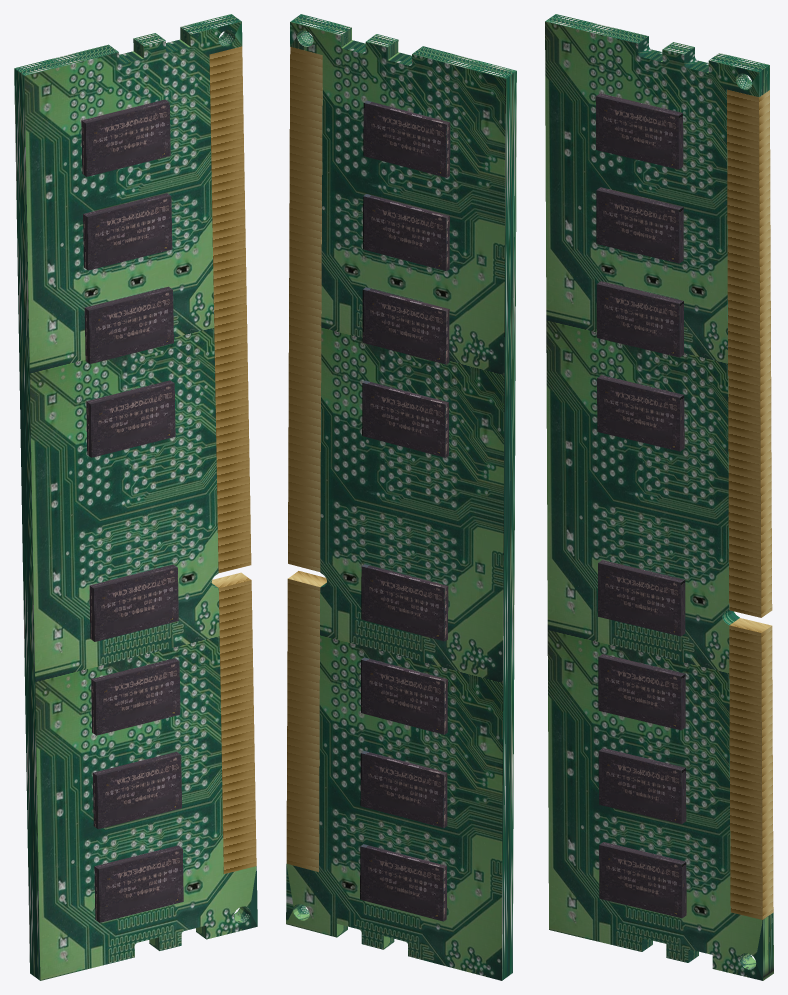
File: ram.glb
3 views of the same model, side by side, from view 1: azimuth 30°, elevation 25°; view 2: azimuth 150°, elevation 25°; view 3: azimuth 330°, elevation 25° (orthographic).
Parts seen in each view (by area): view 1: Cube, Cube.002, Cube.003, Cube.001; view 2: Cube, Cube.002, Cube.005, Cube.004; view 3: Cube, Cube.002, Cube.003, Cube.001.
Boxes of the visible parts, left/top/right/bottom form: Cube: left=14, top=14, right=257, bottom=980; Cube.002: left=209, top=46, right=256, bottom=873; Cube.003: left=89, top=564, right=183, bottom=922; Cube.001: left=81, top=99, right=175, bottom=457; Cube: left=286, top=14, right=516, bottom=980; Cube.002: left=286, top=46, right=326, bottom=871; Cube.005: left=360, top=564, right=448, bottom=921; Cube.004: left=362, top=100, right=450, bottom=457; Cube: left=545, top=14, right=773, bottom=980; Cube.002: left=727, top=89, right=773, bottom=919; Cube.003: left=598, top=560, right=686, bottom=918; Cube.001: left=595, top=93, right=684, bottom=451.
Bounding box in the file's own units: 2.24 × 8.58 × 0.4089.
Materials: 3 (3 with a texture image).
